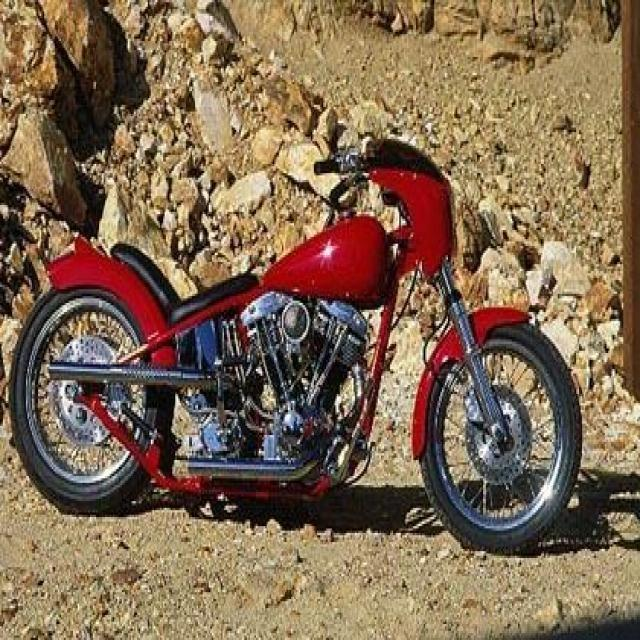Motorcycle: (23, 137, 584, 560)
